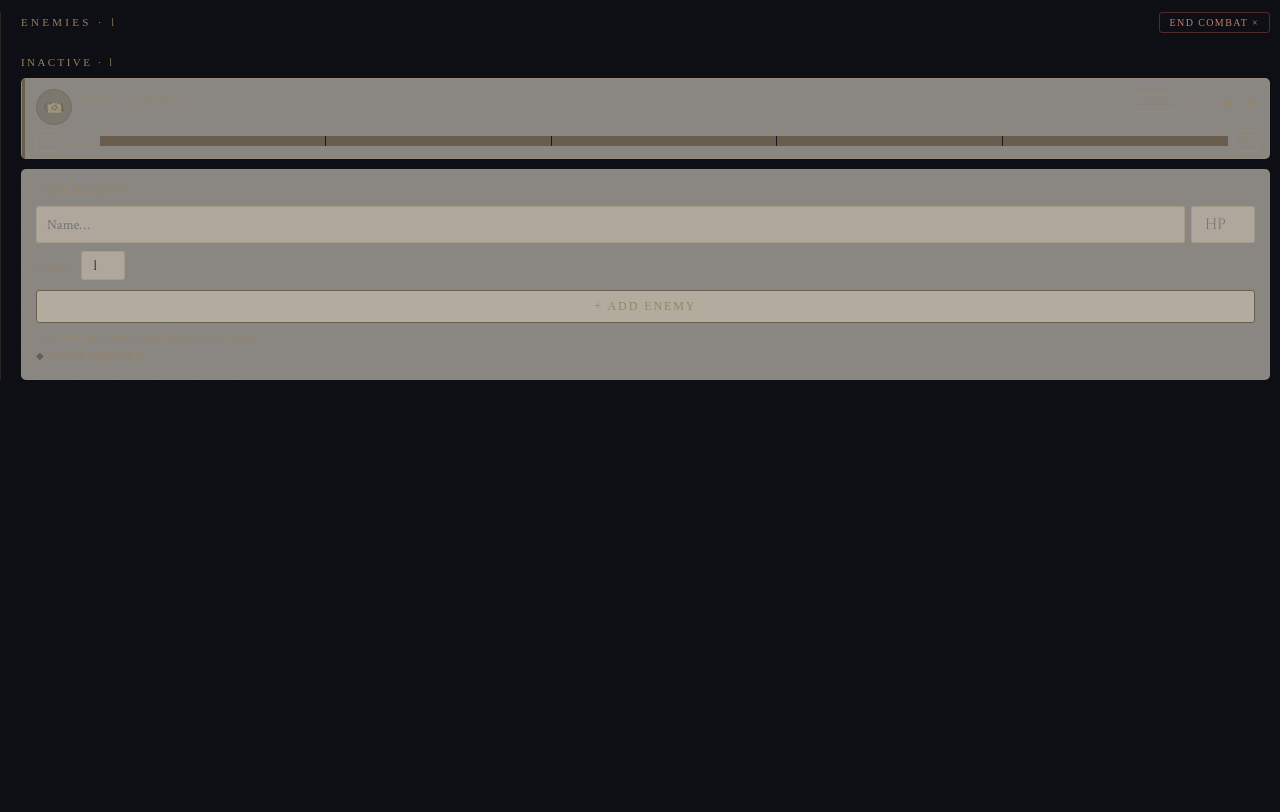
Test case: NpcCombatSection Story 23 ability reference › shows only the first three abilities when collapsed and expands on demand
Note: Inactive NPCs collapse by default (Story 29b) — expand to see the ability block.
Step 1. Click the button named "Expand card" → (1227, 103), box [1215, 91, 1239, 115]
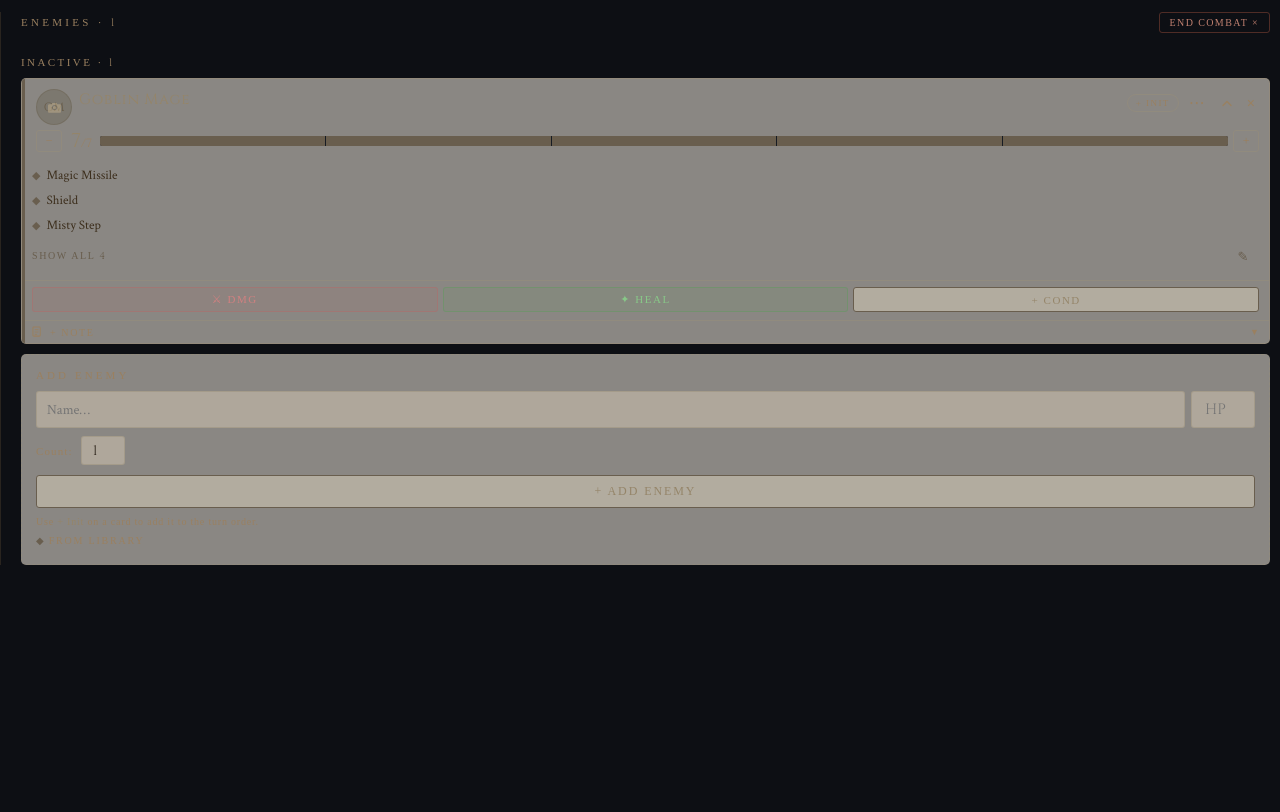
Now the text "Magic Missile" is shown, box [46, 167, 118, 184]
Now the text "Shield" is shown, box [46, 192, 78, 209]
Now the text "Misty Step" is shown, box [46, 217, 101, 234]
Step 2. Click the button "Show all 4" → (69, 256), box [32, 242, 107, 270]
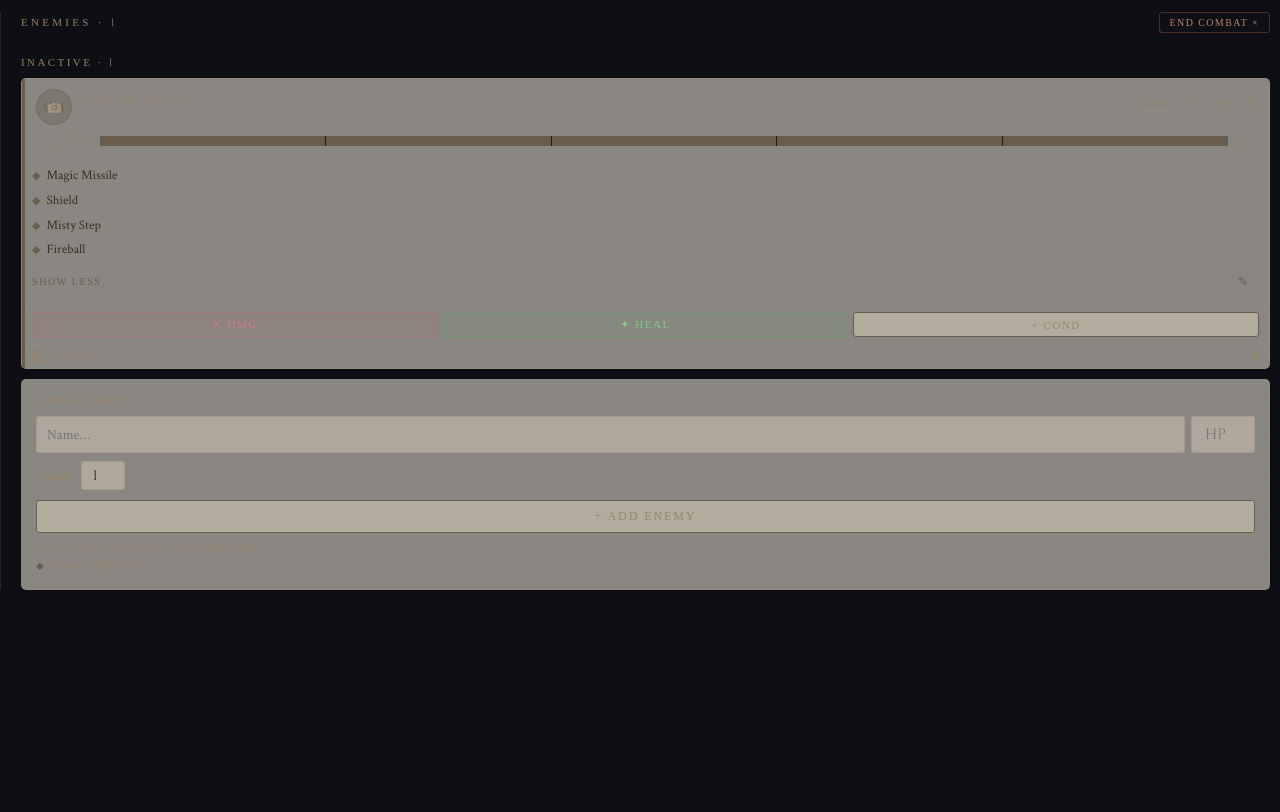
Now the text "Fireball" is shown, box [46, 241, 85, 258]
Now the button "Show less" is shown, box [32, 267, 102, 295]
